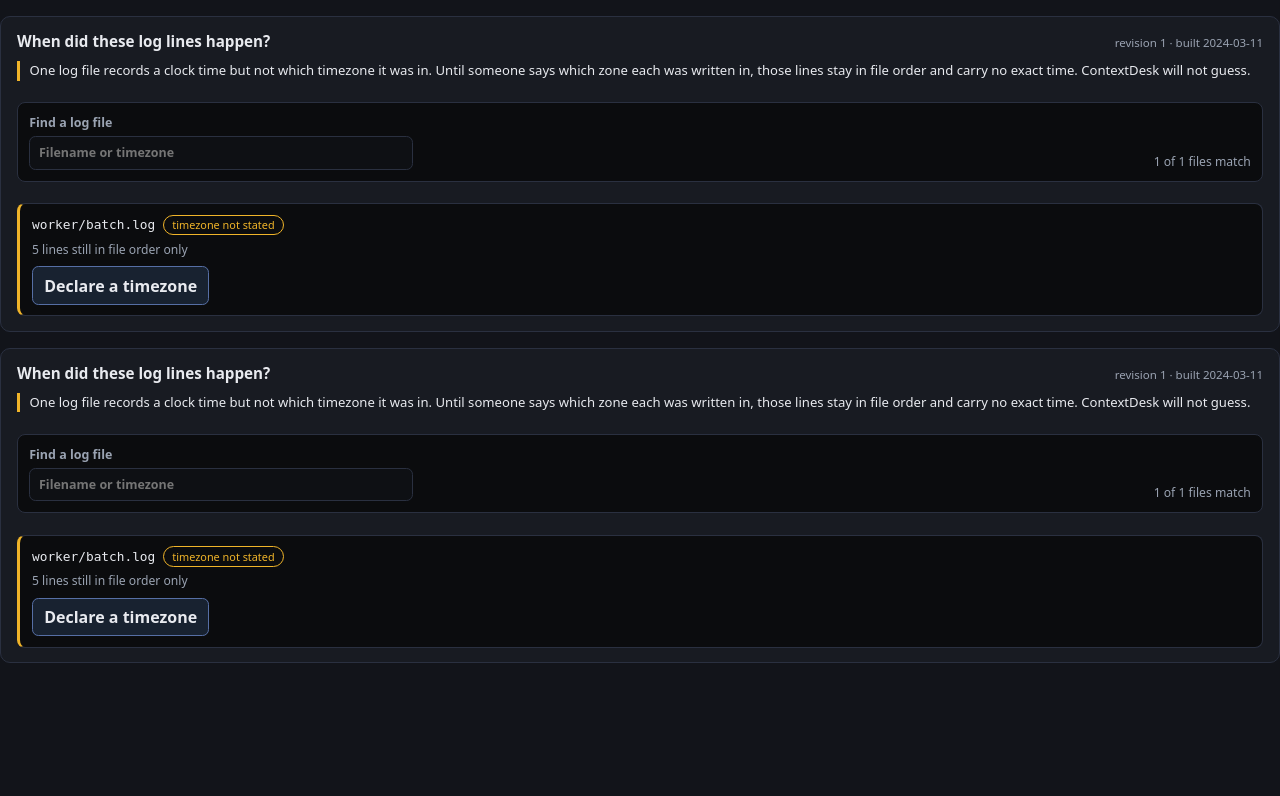
LogTimeReviewPanel › fences a deferred preview when the sibling panel publishes a newer revision
The image size is (1280, 796).
Click the 1st button "Declare a timezone" at (121, 286), box [32, 266, 209, 305]
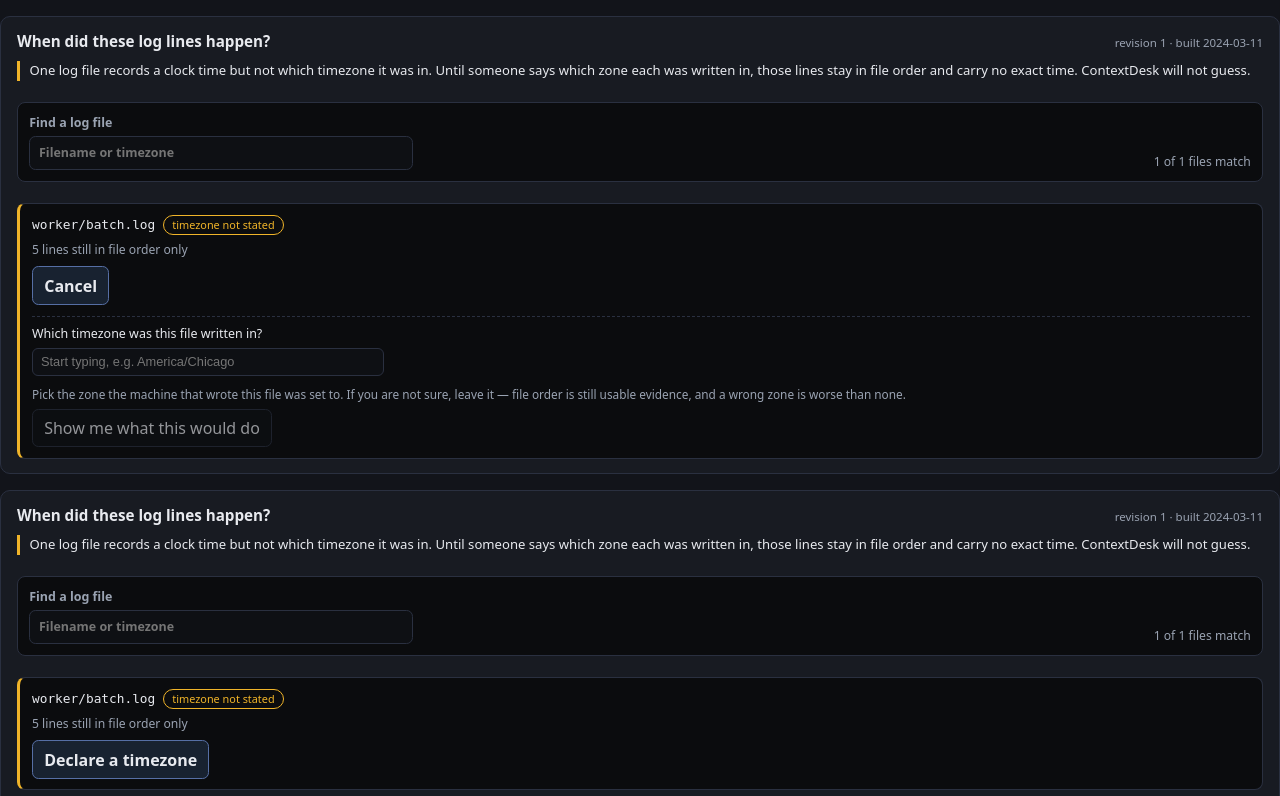
Type "America/Chicago" into the field labelled "Which timezone was this file written in?" at (208, 362), box [32, 348, 384, 376]
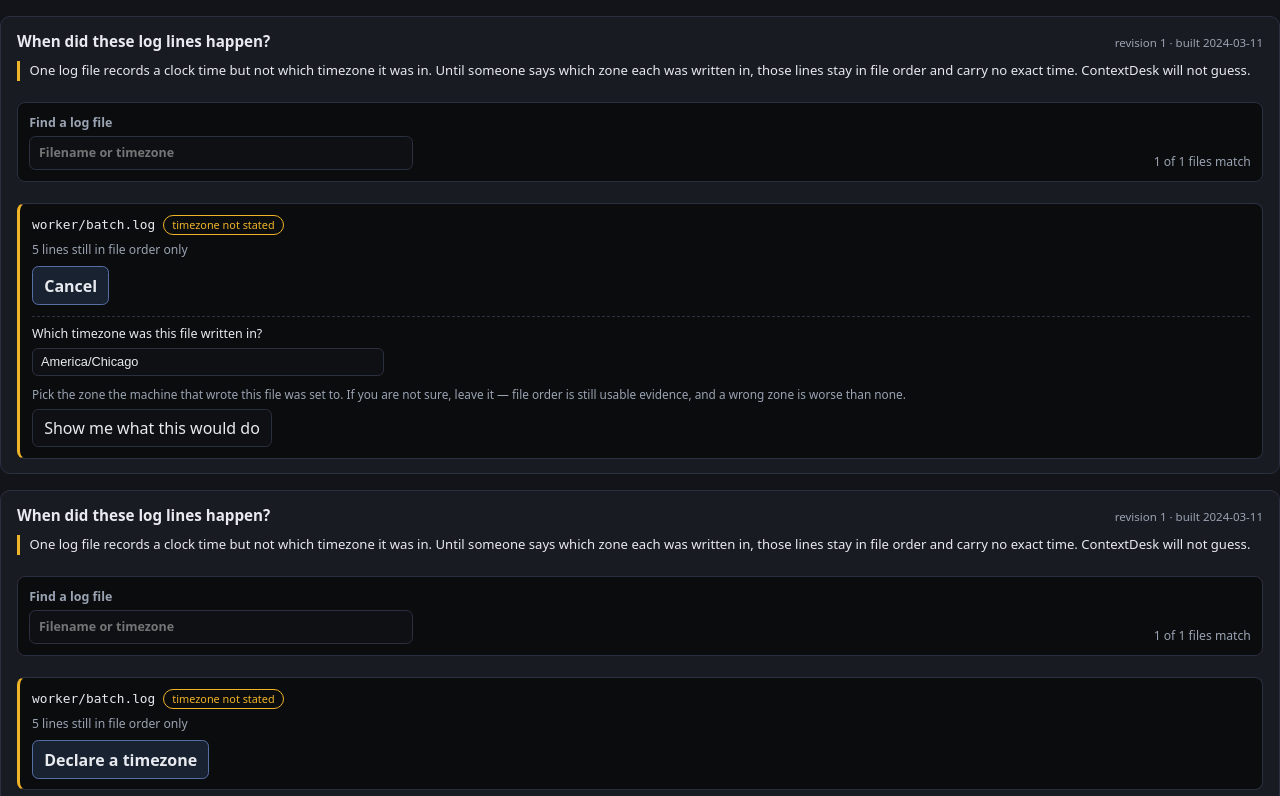
Click the button "Show me what this would do" at (152, 428), box [32, 409, 272, 447]
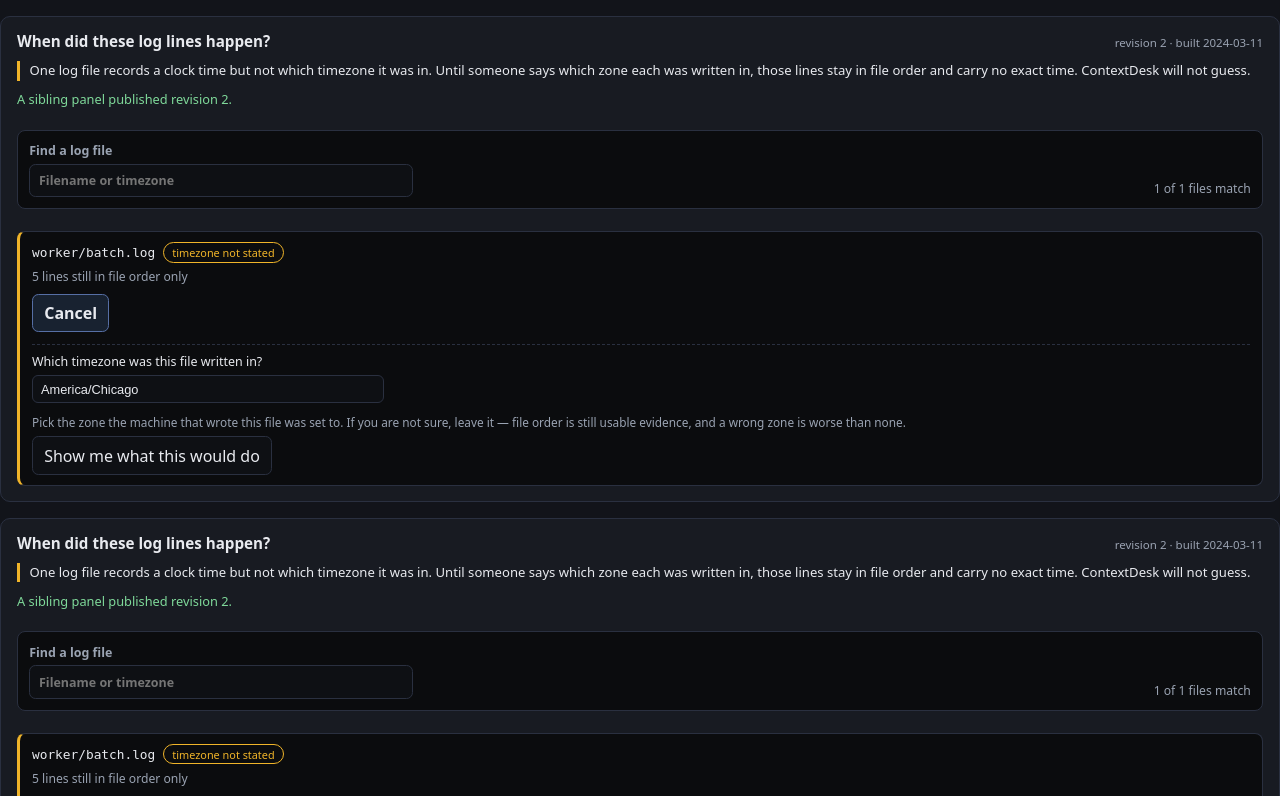
Result: the button "Show me what this would do" is enabled at [32, 436, 272, 475]
Result: the 1st text with class "log-time__badge" shows "revision 2" at [1115, 35, 1263, 50]
Result: the 2nd text with class "log-time__badge" shows "revision 2" at [1115, 537, 1263, 552]
